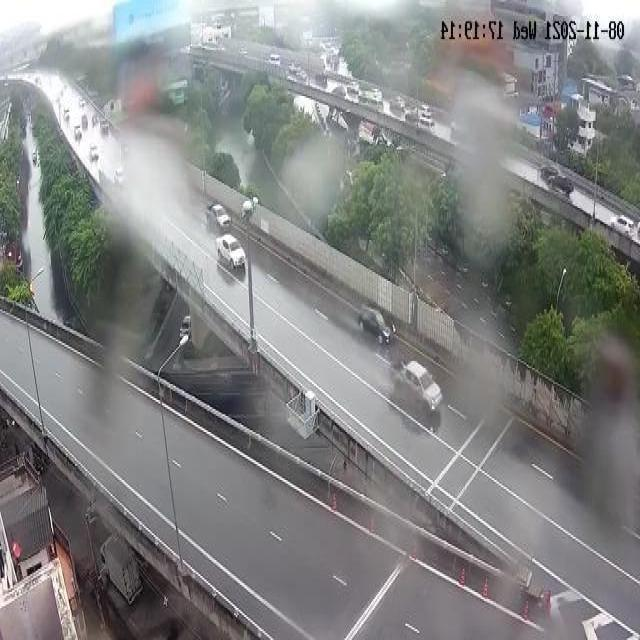Car: (358, 306, 393, 348), (548, 171, 573, 195), (609, 216, 634, 239), (178, 313, 190, 338)
Truck: (98, 530, 144, 604), (391, 357, 443, 412), (216, 231, 246, 270), (204, 202, 232, 233)
